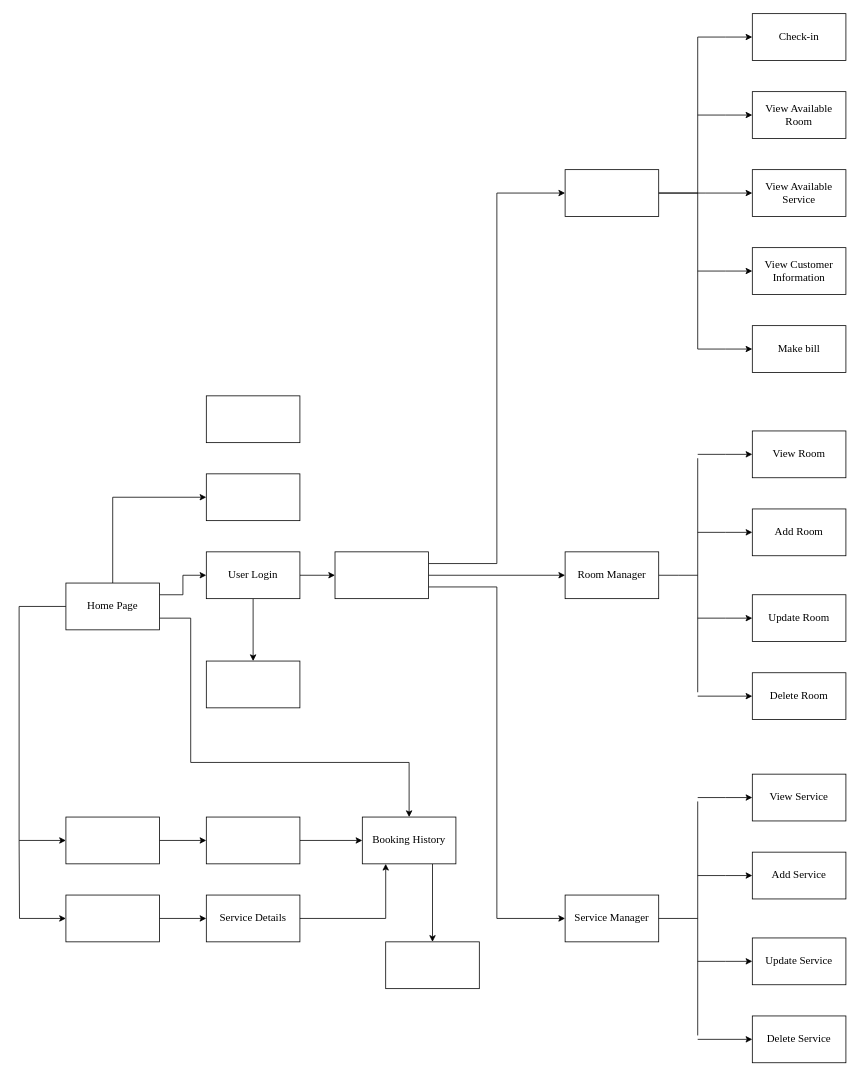
This 860x1076 diagram has some shape labels left out. Each missing label, with the centre of its shape:
"Booking History Details" goes at point 432,965.
"Change Password" goes at point 253,497.
"Receptionist" goes at point 611,192.
"Reset Password" goes at point 253,684.
"Role" goes at point 381,575.
"Room" goes at point 112,840.
"Room Details" goes at point 253,840.
"Service" goes at point 112,918.
"User Profile" goes at point 253,419.
